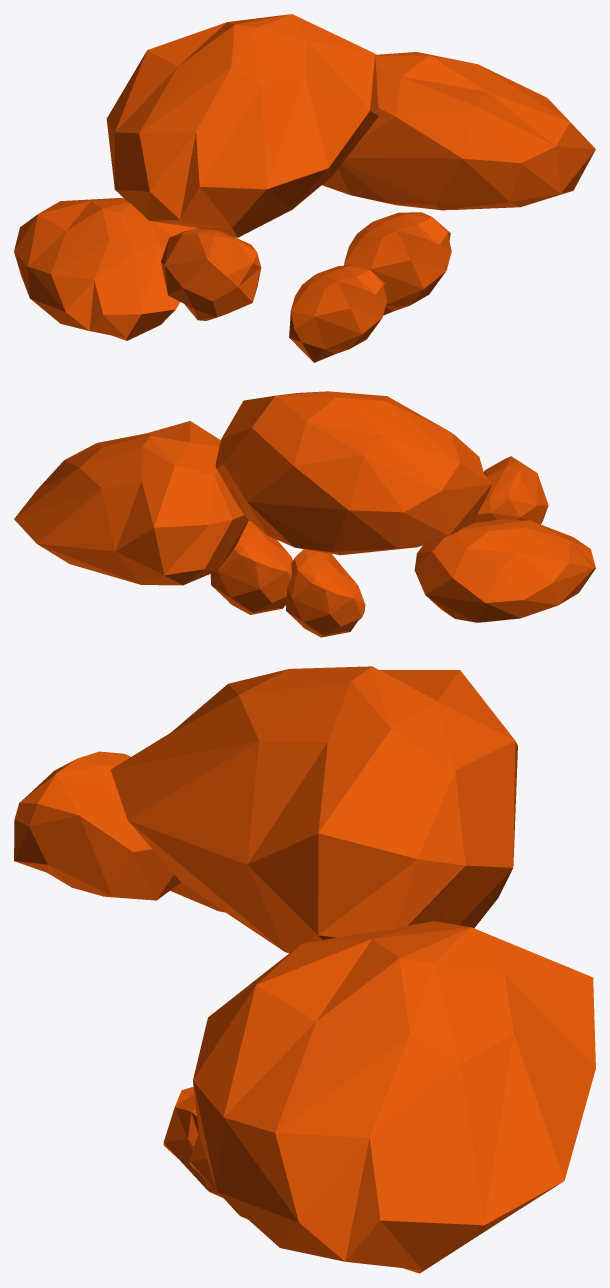
File: tree-autumn-leaves-5-049.glb
3 views of the same model, one above another, from view 1: azimuth 30°, elevation 25°; view 2: azimuth 150°, elevation 25°; view 3: azimuth 270°, elevation 25° (orthographic). The views are drawn at different scales.
Parts seen in each view (by area): view 1: TREE 5.003_399; view 2: TREE 5.003_399; view 3: TREE 5.003_399.
Boxes of the visible parts, left/top/right/bottom form: TREE 5.003_399: left=14, top=14, right=595, bottom=362; TREE 5.003_399: left=14, top=391, right=595, bottom=637; TREE 5.003_399: left=14, top=666, right=595, bottom=1273.
Size of the model in its own units: 1.99 by 1.05 by 1.12.
